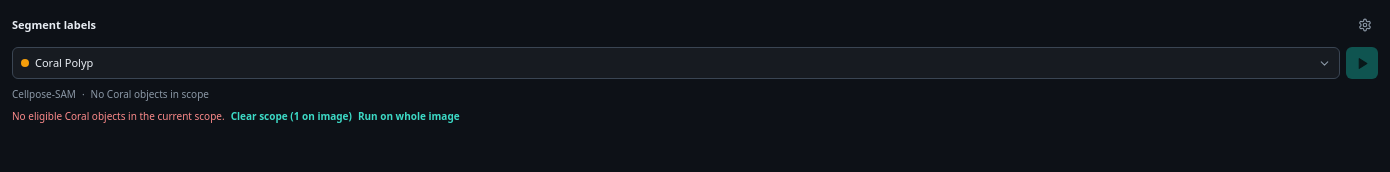
shared per-label segmentation workflow › distinguishes scope when parents exist elsewhere on the image and allows clearing scope
Expected: the text "No eligible Coral objects in the current scope." is shown, [12,110,225,123]
Expected: the button "Run on whole image" is shown, [358,110,460,123]
Click the button "Clear scope (1 on image)".
click(291, 116)  # box [231,110,352,123]
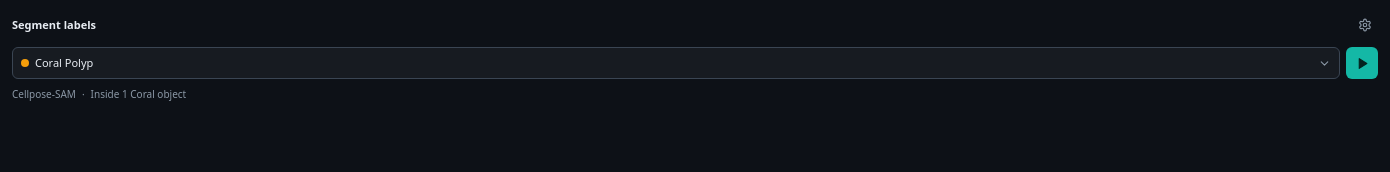
Expected: the text "Inside 1 Coral object" is shown, [91,88,186,101]
